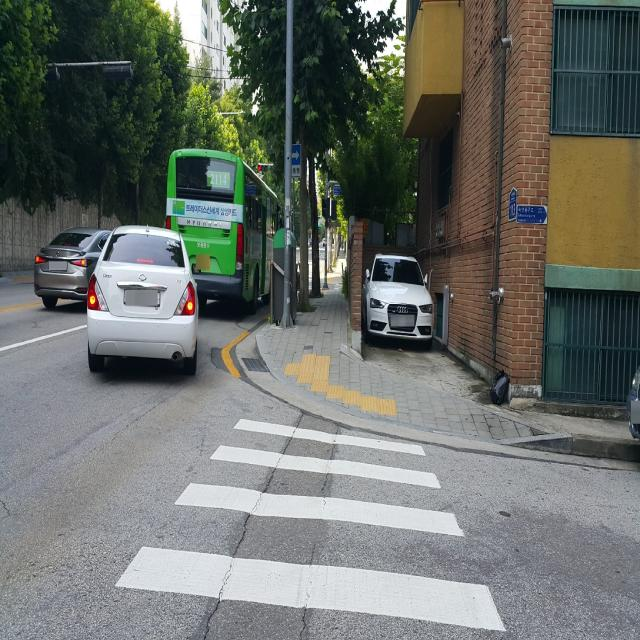횡단보도: (112, 416, 508, 638)
